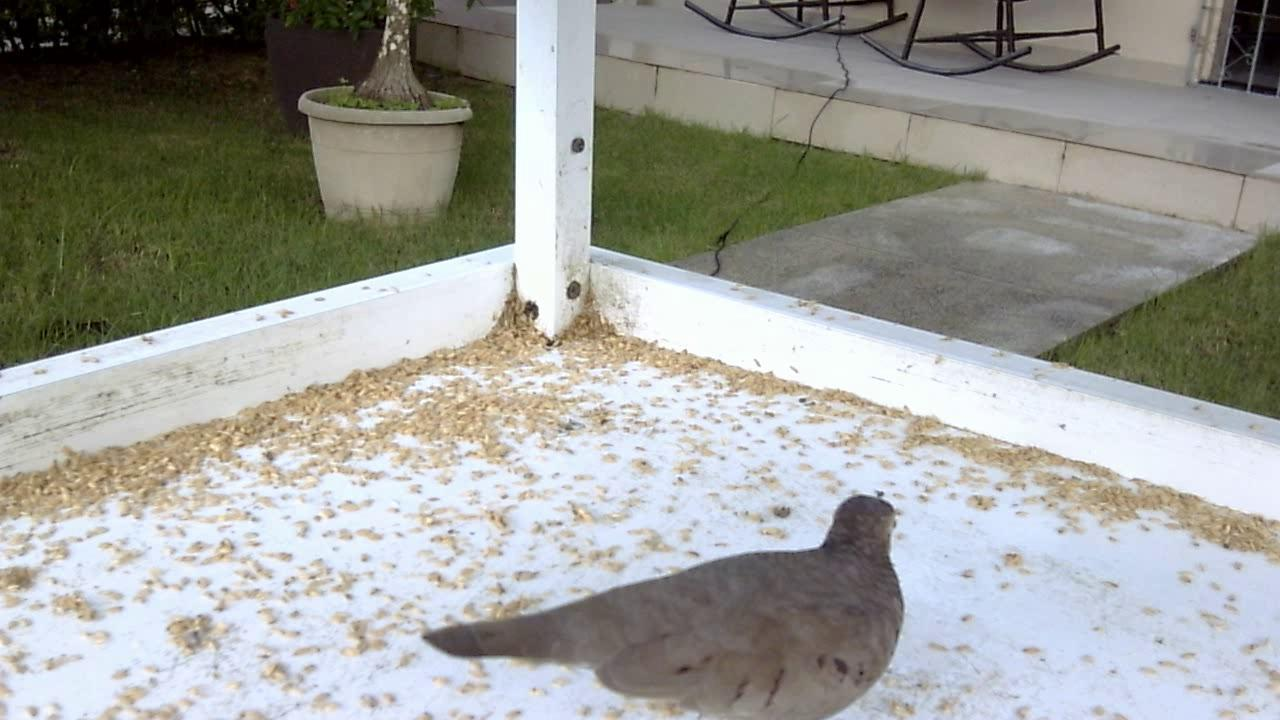rolinha: (416, 488, 923, 716)
